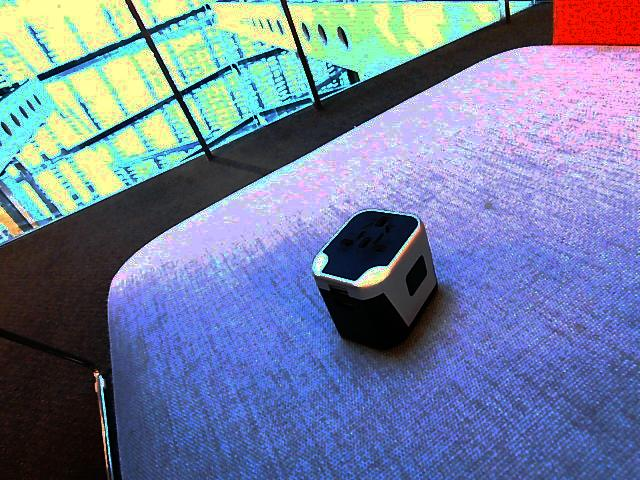adapter: (310, 210, 438, 350)
